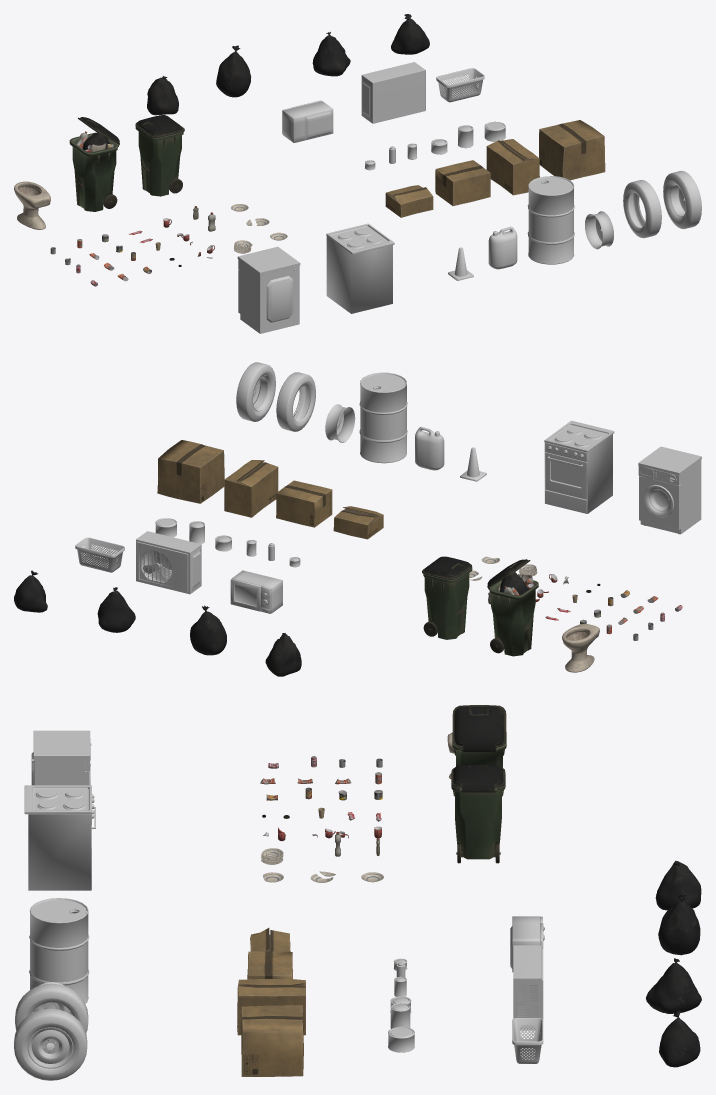
The model's file is Trash_pack.obj.
The picture shows the model from 3 angles, top to bottom: view 1: azimuth 30°, elevation 25°; view 2: azimuth 150°, elevation 25°; view 3: azimuth 270°, elevation 25°; orthographic projection. The views are drawn at different scales.
Visible parts, largest first — view 1: Range_Oven, Washing_Machine, Barrel, Trash_Can.001, Cardboard_box_1, Air_conditioning, Trash_Can, Cardboard_box_5, Cardboard_box_3, Car_Whell, Tire, Microwave (+10 smaller); view 2: Washing_Machine, Barrel, Range_Oven, Trash_Can.001, Cardboard_box_1, Air_conditioning, Trash_Can, Cardboard_box_5, Cardboard_box_3, Car_Whell, Tire, Range_Oven_Door (+13 smaller); view 3: Range_Oven, Barrel, Cardboard_box_1, Car_Whell, Washing_Machine, Trash_Can, Trash_Can.001, Air_conditioning, Cardboard_box_5, Trash_bag_02, Trash_bag_03, Tire (+8 smaller).
Boxes of the visible parts, left/top/right/bottom form: Range_Oven: left=326, top=223, right=394, bottom=313; Washing_Machine: left=237, top=246, right=300, bottom=333; Barrel: left=527, top=176, right=574, bottom=264; Trash_Can.001: left=69, top=117, right=119, bottom=211; Cardboard_box_1: left=539, top=120, right=605, bottom=180; Air_conditioning: left=361, top=62, right=425, bottom=123; Trash_Can: left=135, top=125, right=184, bottom=196; Cardboard_box_5: left=486, top=139, right=539, bottom=195; Cardboard_box_3: left=435, top=160, right=490, bottom=205; Car_Whell: left=663, top=171, right=701, bottom=228; Tire: left=623, top=180, right=661, bottom=238; Microwave: left=282, top=101, right=333, bottom=142; Washing_Machine: left=638, top=446, right=701, bottom=534; Barrel: left=359, top=372, right=407, bottom=463; Range_Oven: left=544, top=420, right=614, bottom=513; Trash_Can.001: left=487, top=559, right=538, bottom=656; Cardboard_box_1: left=157, top=440, right=224, bottom=503; Air_conditioning: left=136, top=531, right=201, bottom=594; Trash_Can: left=422, top=566, right=472, bottom=639; Cardboard_box_5: left=224, top=460, right=278, bottom=517; Cardboard_box_3: left=276, top=480, right=332, bottom=527; Car_Whell: left=236, top=362, right=275, bottom=421; Tire: left=276, top=372, right=315, bottom=431; Range_Oven_Door: left=545, top=452, right=587, bottom=499; Range_Oven: left=24, top=785, right=94, bottom=890; Barrel: left=29, top=898, right=89, bottom=1008; Cardboard_box_1: left=241, top=1005, right=303, bottom=1076; Car_Whell: left=14, top=1008, right=87, bottom=1080; Washing_Machine: left=31, top=730, right=91, bottom=785; Trash_Can: left=451, top=773, right=505, bottom=863; Trash_Can.001: left=452, top=705, right=506, bottom=767; Air_conditioning: left=513, top=945, right=543, bottom=1030; Cardboard_box_5: left=237, top=978, right=305, bottom=1035; Trash_bag_02: left=646, top=958, right=701, bottom=1013; Trash_bag_03: left=658, top=894, right=700, bottom=955; Tire: left=15, top=983, right=88, bottom=1052.
Size of the model in its own units: 9.51 by 1.56 by 8.71.
